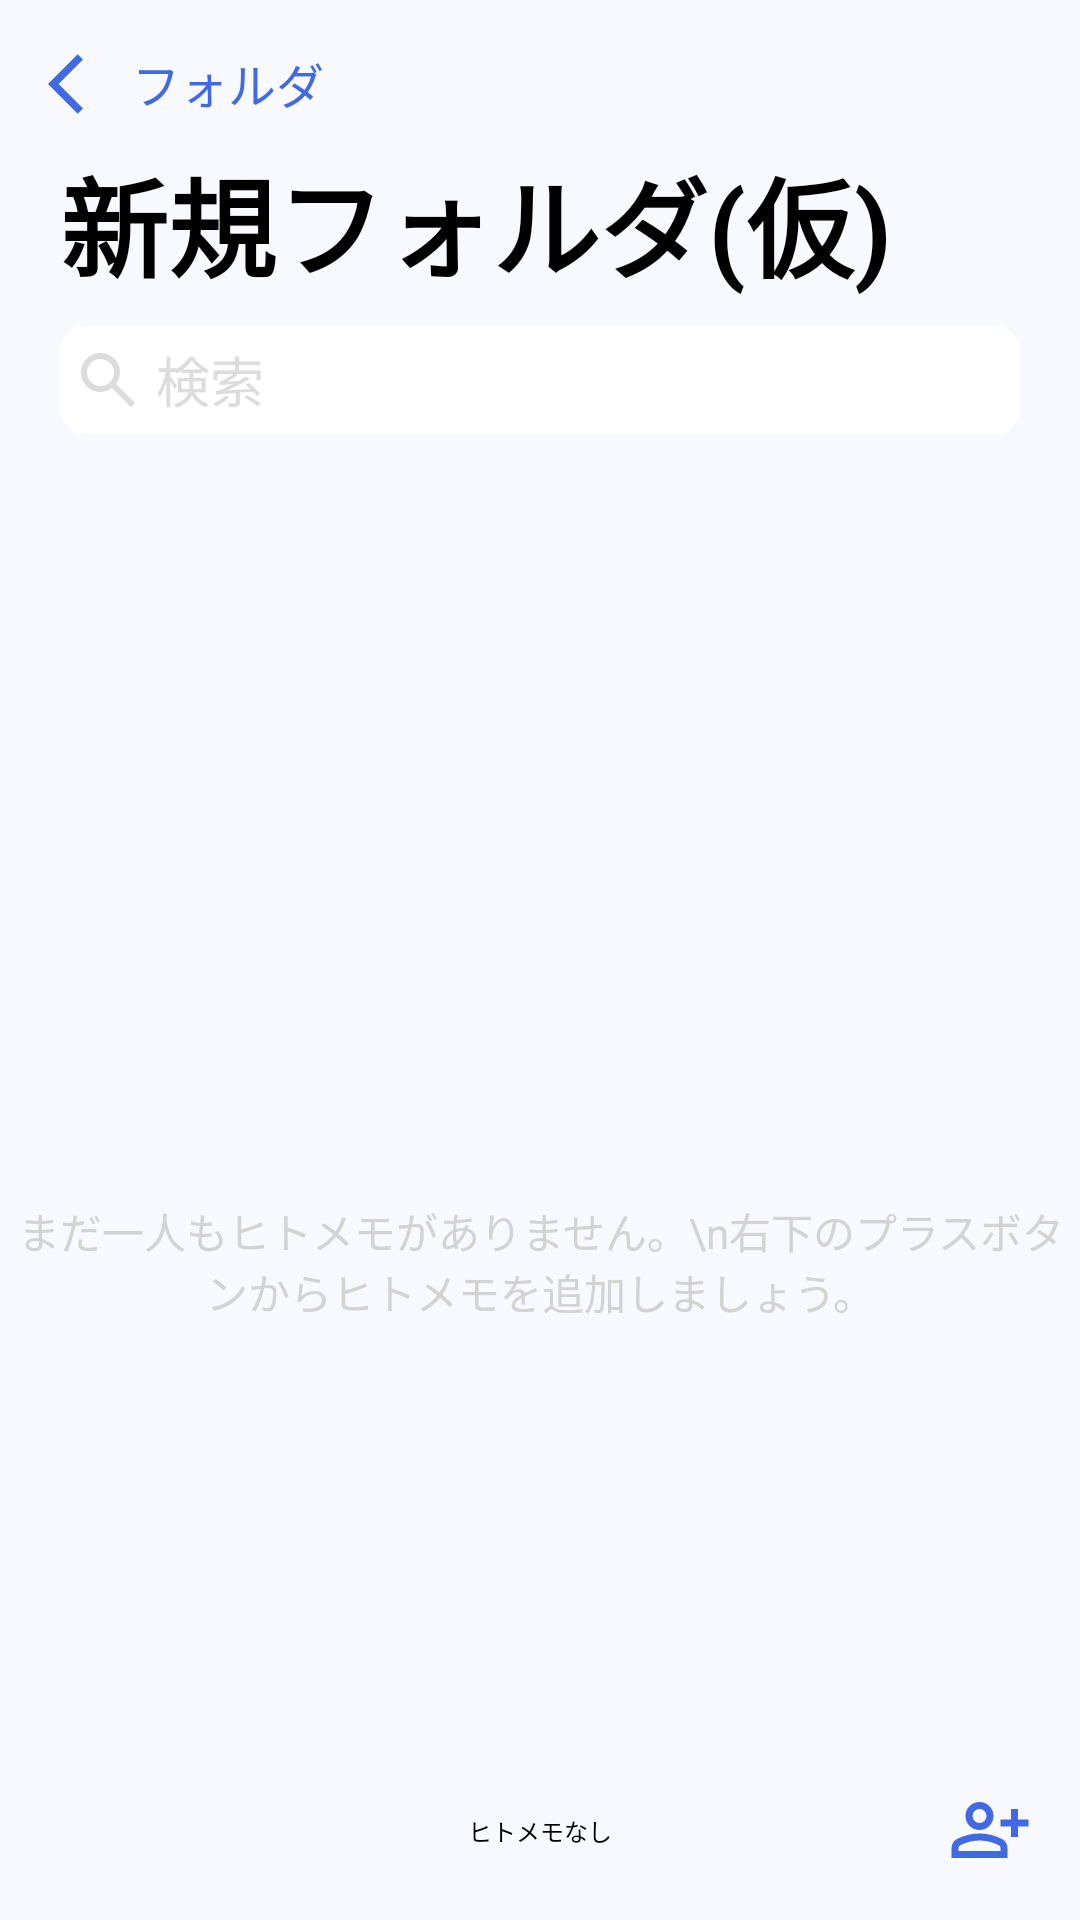

Icons on this 1080x1920 Android screen, each with its box as [x1=x1, y1=y1, x2=x2, y2=y2]:
back: [x1=48, y1=54, x2=83, y2=114]
person add ver: [x1=951, y1=1802, x2=1029, y2=1858]
search: [x1=81, y1=353, x2=134, y2=406]
